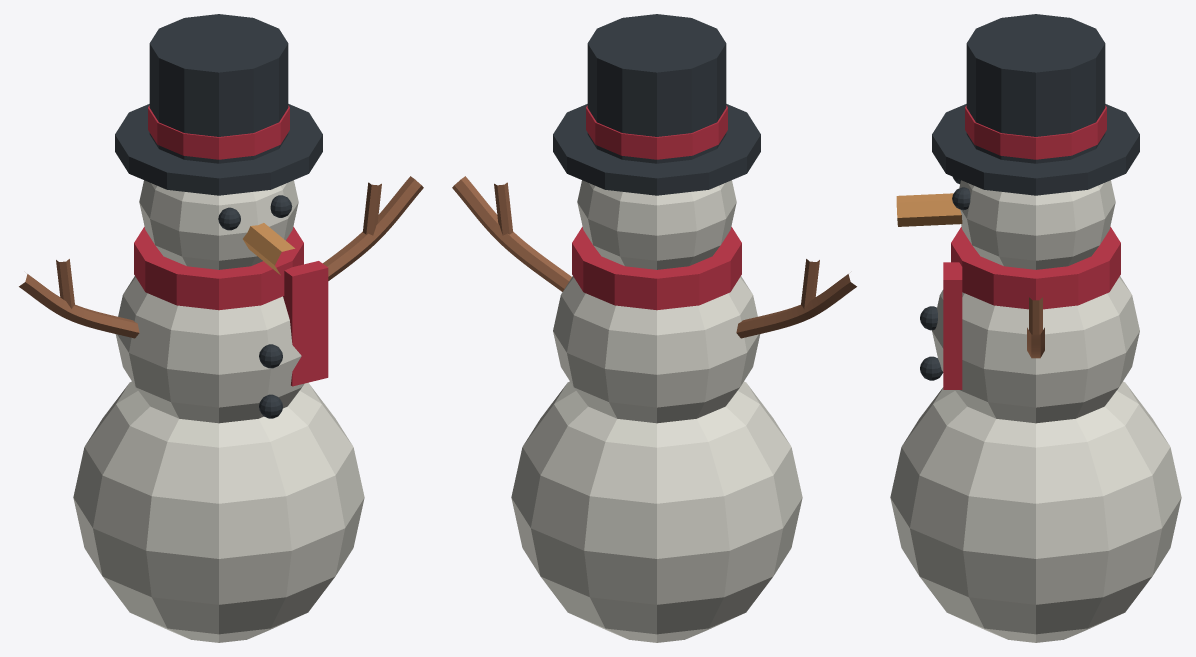
Rendered from three-d-christmas-village-christmas-village-scarf-snowman-3db420d0.glb.
3 views of the same model, side by side, from view 1: azimuth 30°, elevation 25°; view 2: azimuth 150°, elevation 25°; view 3: azimuth 270°, elevation 25° (orthographic).
Parts seen in each view (by area): view 1: scarf-snowman; view 2: scarf-snowman; view 3: scarf-snowman.
Part boxes in pixels (box(x1,y1,x2,y2)): scarf-snowman: box(19, 14, 423, 642); scarf-snowman: box(452, 14, 856, 642); scarf-snowman: box(890, 14, 1181, 642).
Size of the model in its own units: 1.35 by 1.86 by 0.84.
